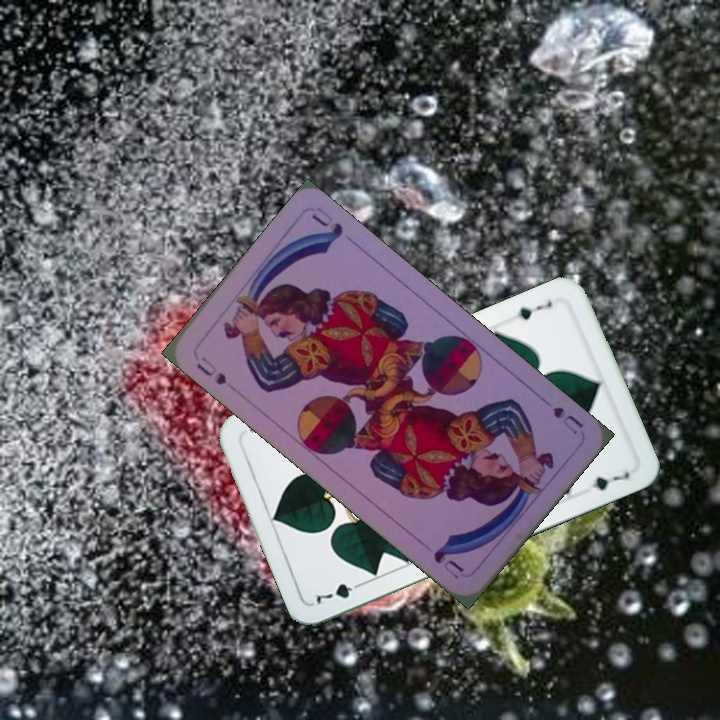G7: (309, 577, 368, 607), (513, 296, 555, 323)
SU: (192, 352, 229, 388), (548, 402, 586, 437)
